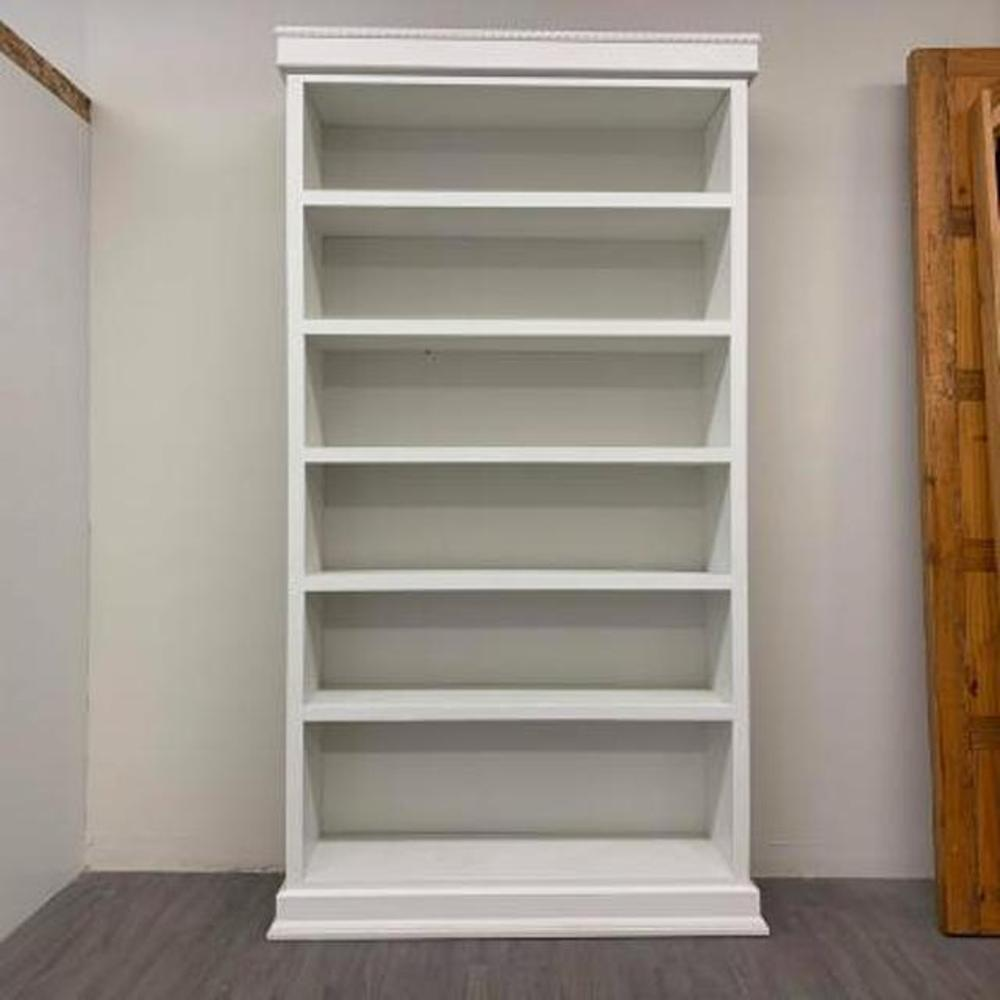lamp: (256, 22, 775, 942)
